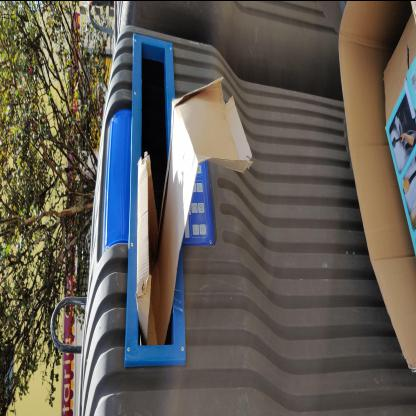karton: (136, 72, 255, 350), (337, 0, 415, 374)
